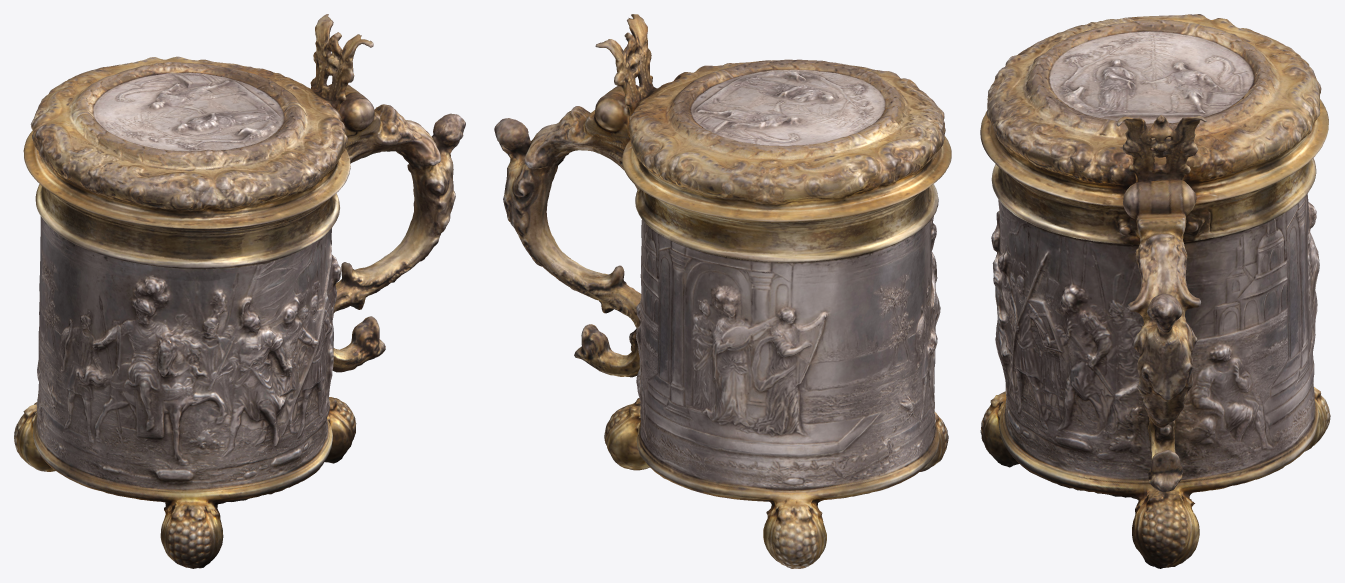
Rendered from 异形盖杯.glb.
3 views of the same model, side by side, from view 1: azimuth 30°, elevation 25°; view 2: azimuth 150°, elevation 25°; view 3: azimuth 270°, elevation 25° (orthographic). The views are drawn at different scales.
Parts seen in each view (by area): view 1: 834_Kufel_; view 2: 834_Kufel_; view 3: 834_Kufel_.
Boxes of the visible parts, left/top/right/bottom form: 834_Kufel_: left=14, top=14, right=465, bottom=568; 834_Kufel_: left=494, top=14, right=951, bottom=568; 834_Kufel_: left=980, top=14, right=1330, bottom=568.
Size of the model in its own units: 26.36 by 25.64 by 17.65.
Materials: 1 (1 with a texture image).
